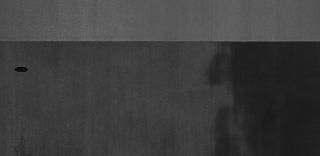punching hole: (13, 65, 33, 73)
welding line: (3, 38, 319, 48)
